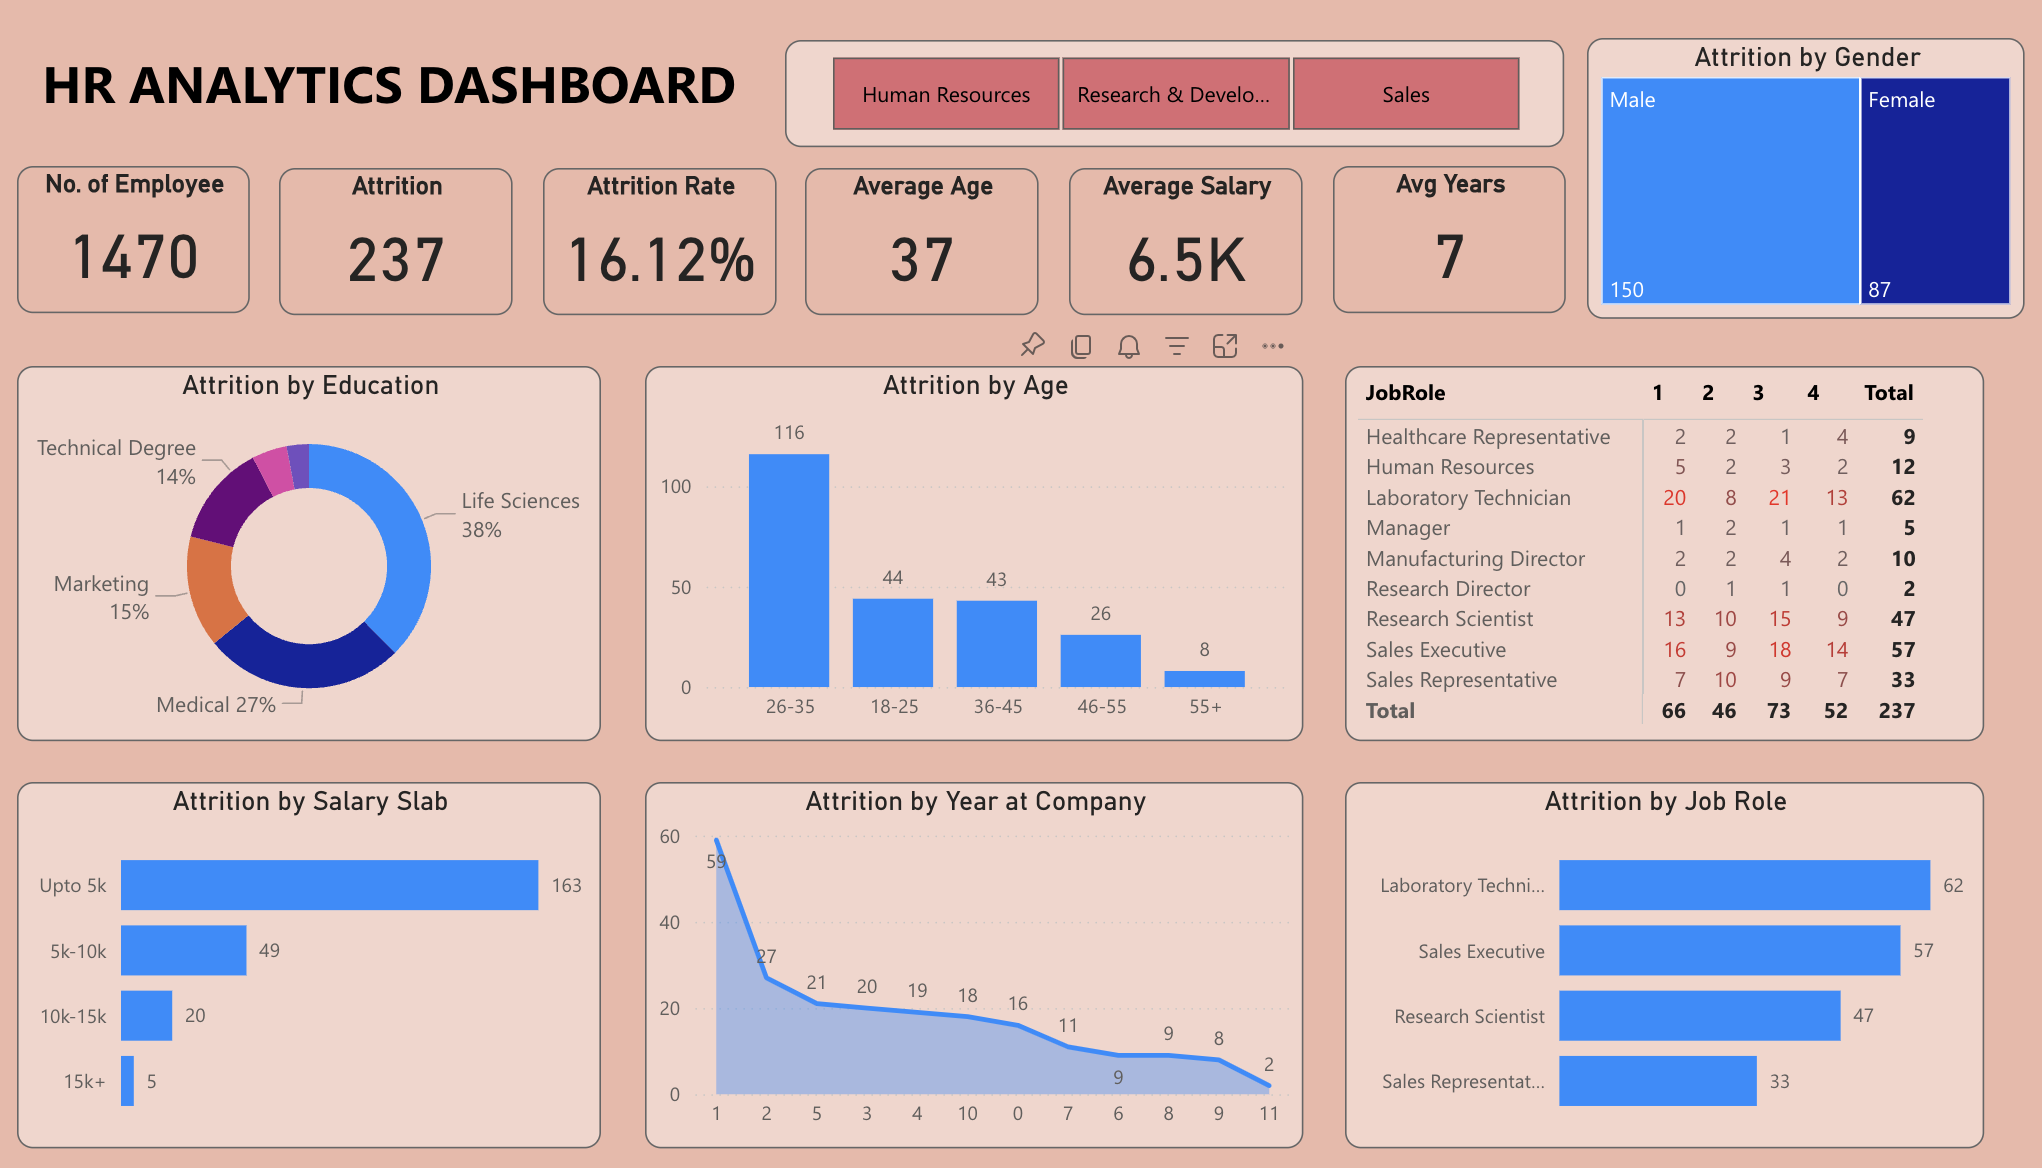

The page's visual inventory and layout, read from the dashboard file:
{"tool":"powerbi","page":{"name":"Dashboard","canvas":[1280,720],"ordinal":0},"visuals":[{"type":"card","title":"No. of Employee","fields":{"Values":["CountNonNull(HR_Analytics.EmpID)"]},"box":[13.7,87.8,145.5,91.9],"z":0},{"type":"card","title":"Attrition","fields":{"Values":["Sum(HR_Analytics.Attrition_Count)"]},"box":[177.7,88.2,146,92],"z":1},{"type":"card","title":"Average Age","fields":{"Values":["Avg(HR_Analytics.Age)"]},"box":[506.7,88.2,146,92],"z":2},{"type":"card","title":"Attrition Rate","fields":{"Values":["HR_Analytics.Attrition Rate"]},"box":[342.2,88.2,146,92],"z":3},{"type":"card","title":"Average Salary","fields":{"Values":["Avg(HR_Analytics.MonthlyIncome)"]},"box":[671.2,88.2,146,92],"z":4},{"type":"card","title":"Avg Years","fields":{"Values":["Avg(HR_Analytics.YearsAtCompany)"]},"box":[835.7,87.8,145.5,91.9],"z":5},{"type":"donutChart","title":"Attrition by Education","fields":{"Category":["HR_Analytics.EducationField"],"Y":["Sum(HR_Analytics.Attrition_Count)"]},"box":[13.7,212.7,365,234.6],"z":6},{"type":"columnChart","title":"Attrition by Age","fields":{"Category":["HR_Analytics.AgeGroup"],"Y":["Sum(HR_Analytics.Attrition_Count)"]},"box":[406.2,212.7,411.7,234.6],"z":7},{"type":"pivotTable","fields":{"Rows":["HR_Analytics.JobRole"],"Columns":["HR_Analytics.JobSatisfaction"],"Values":["Sum(HR_Analytics.Attrition_Count)"]},"box":[843.9,212.7,399.3,234.6],"z":8},{"type":"barChart","title":"Attrition by Salary Slab","fields":{"Category":["HR_Analytics.SalarySlab"],"Y":["Sum(HR_Analytics.Attrition_Count)"]},"box":[13.7,473,365,229.2],"z":9},{"type":"barChart","title":"Attrition by Job Role","fields":{"Category":["HR_Analytics.JobRole"],"Y":["Sum(HR_Analytics.Attrition_Count)"]},"box":[843.9,473,399.3,229.2],"z":10},{"type":"areaChart","title":"Attrition by Year at Company","fields":{"Category":["HR_Analytics.YearsAtCompany"],"Y":["Sum(HR_Analytics.Attrition_Count)"]},"box":[406.2,473,411.7,229.2],"z":11},{"type":"treemap","title":"Attrition by Gender","fields":{"Group":["HR_Analytics.Gender"],"Values":["Sum(HR_Analytics.Attrition_Count)"]},"box":[994.9,64.9,274.4,119.4],"z":12},{"type":"slicer","fields":{"Values":["HR_Analytics.Department"]},"box":[494,8.6,487.1,67.2],"z":13},{"type":"textbox","box":[0,8.6,492.6,57.6],"z":14}]}

Visuals, with their boxes in screenshot pixels (x1, y1, x2, y2), scaled from the page's 1280x720 canvas onto the 2042x1168 screenshot:
"No. of Employee" card: [22,142,254,292]
"Attrition" card: [283,143,516,292]
"Average Age" card: [808,143,1041,292]
"Attrition Rate" card: [546,143,779,292]
"Average Salary" card: [1071,143,1304,292]
"Avg Years" card: [1333,142,1565,292]
"Attrition by Education" donutChart: [22,345,604,726]
"Attrition by Age" columnChart: [648,345,1305,726]
pivotTable - HR_Analytics.JobRole x HR_Analytics.JobSatisfaction: [1346,345,1983,726]
"Attrition by Salary Slab" barChart: [22,767,604,1139]
"Attrition by Job Role" barChart: [1346,767,1983,1139]
"Attrition by Year at Company" areaChart: [648,767,1305,1139]
"Attrition by Gender" treemap: [1587,105,2025,299]
slicer - HR_Analytics.Department: [788,14,1565,123]
textbox: [0,14,786,107]
